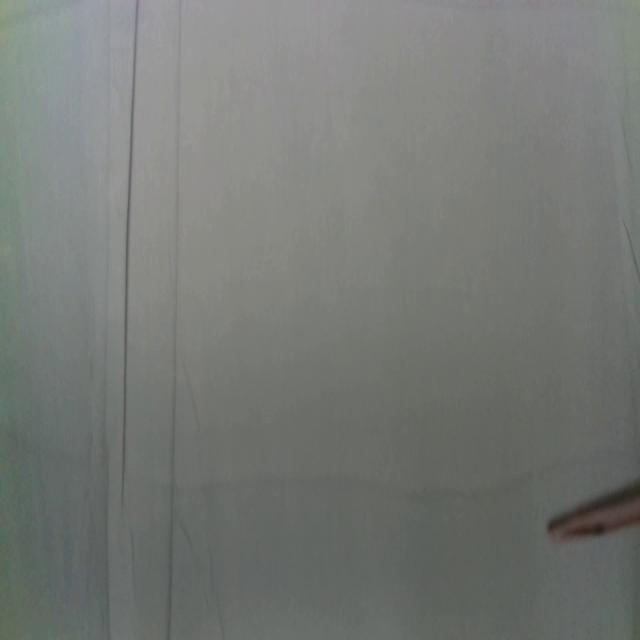color bleeding: (176, 446, 584, 510)
crease: (164, 0, 184, 640), (120, 0, 140, 504), (100, 1, 113, 639)
